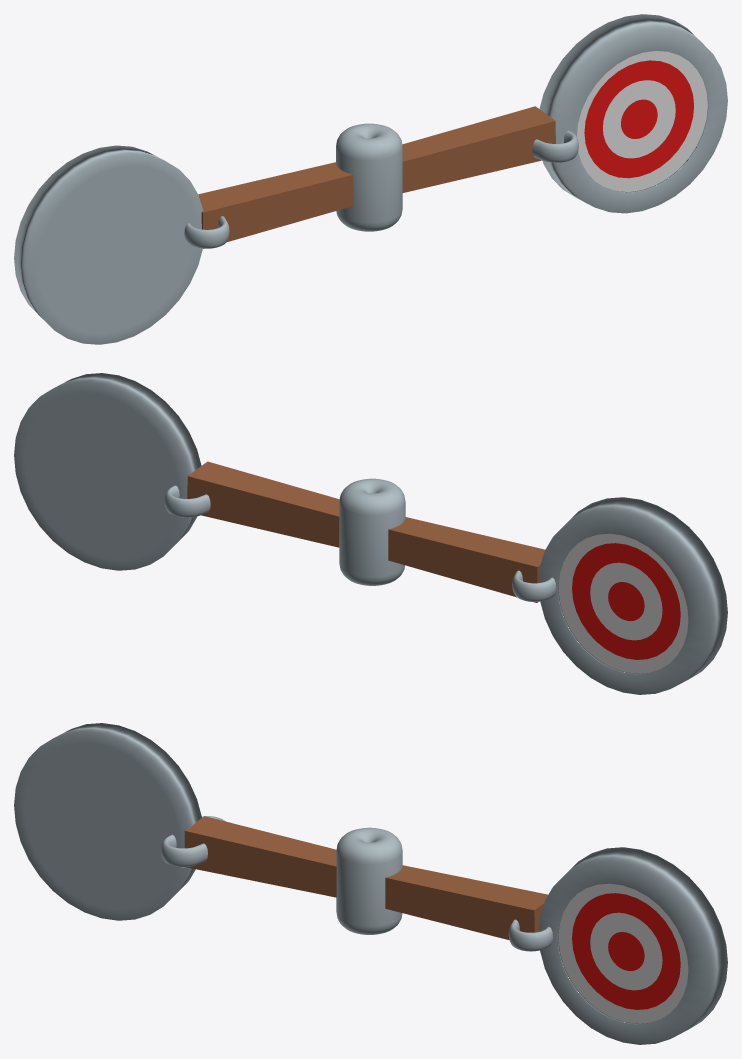
The model's file is target_rotating_top.glb.
3 renders of one model, top to bottom at view 1: azimuth 30°, elevation 25°; view 2: azimuth 150°, elevation 25°; view 3: azimuth 330°, elevation 25°, orthographic.
Parts seen in each view (by area): view 1: target_rotating_top; view 2: target_rotating_top; view 3: target_rotating_top.
Boxes of the visible parts, x1,y1,x2,y2 form: target_rotating_top: (14, 14, 727, 344); target_rotating_top: (14, 373, 727, 694); target_rotating_top: (14, 723, 727, 1044).
Bounding box in the file's own units: 6.42 × 1.61 × 0.7519.
